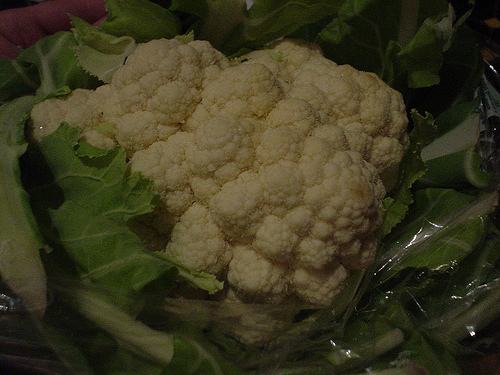cauliflower: (30, 37, 409, 342)
